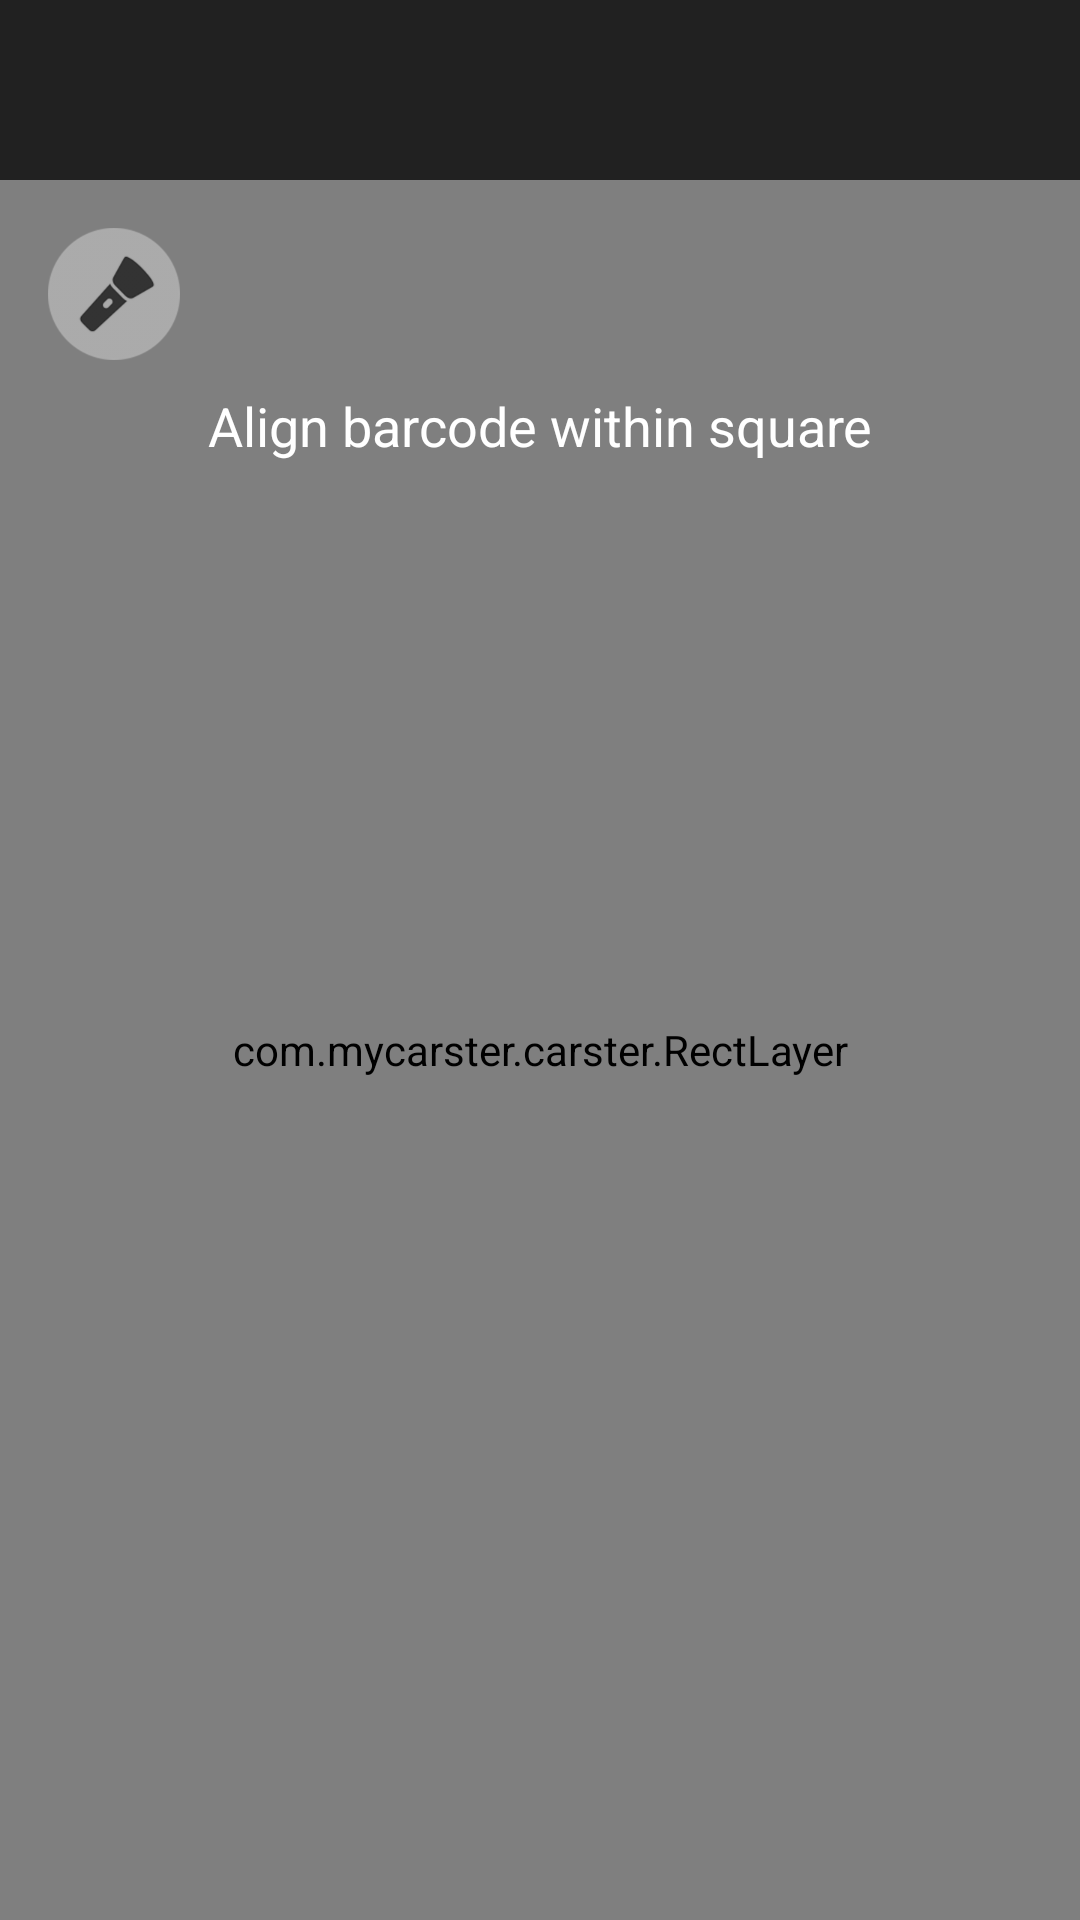

Icon click points for this 1080*1920 phone screenshot, format [x,y]:
Turn on/off flash: [114,294]
